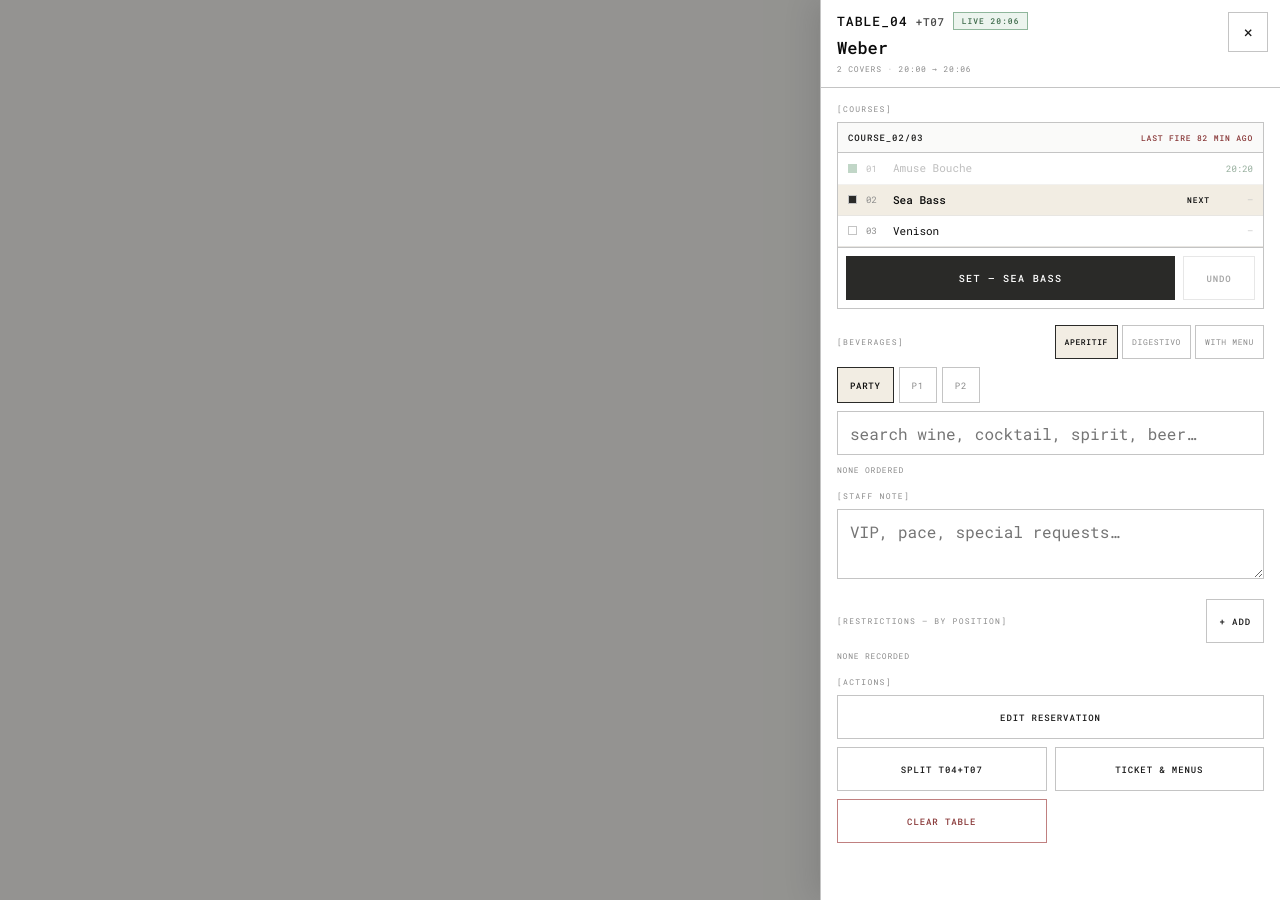
Test: reports a refused split instead of claiming it succeeded
Click the button "SPLIT T04+T07" at [942, 769], box top-left (837, 747), bottom-right (1046, 791)
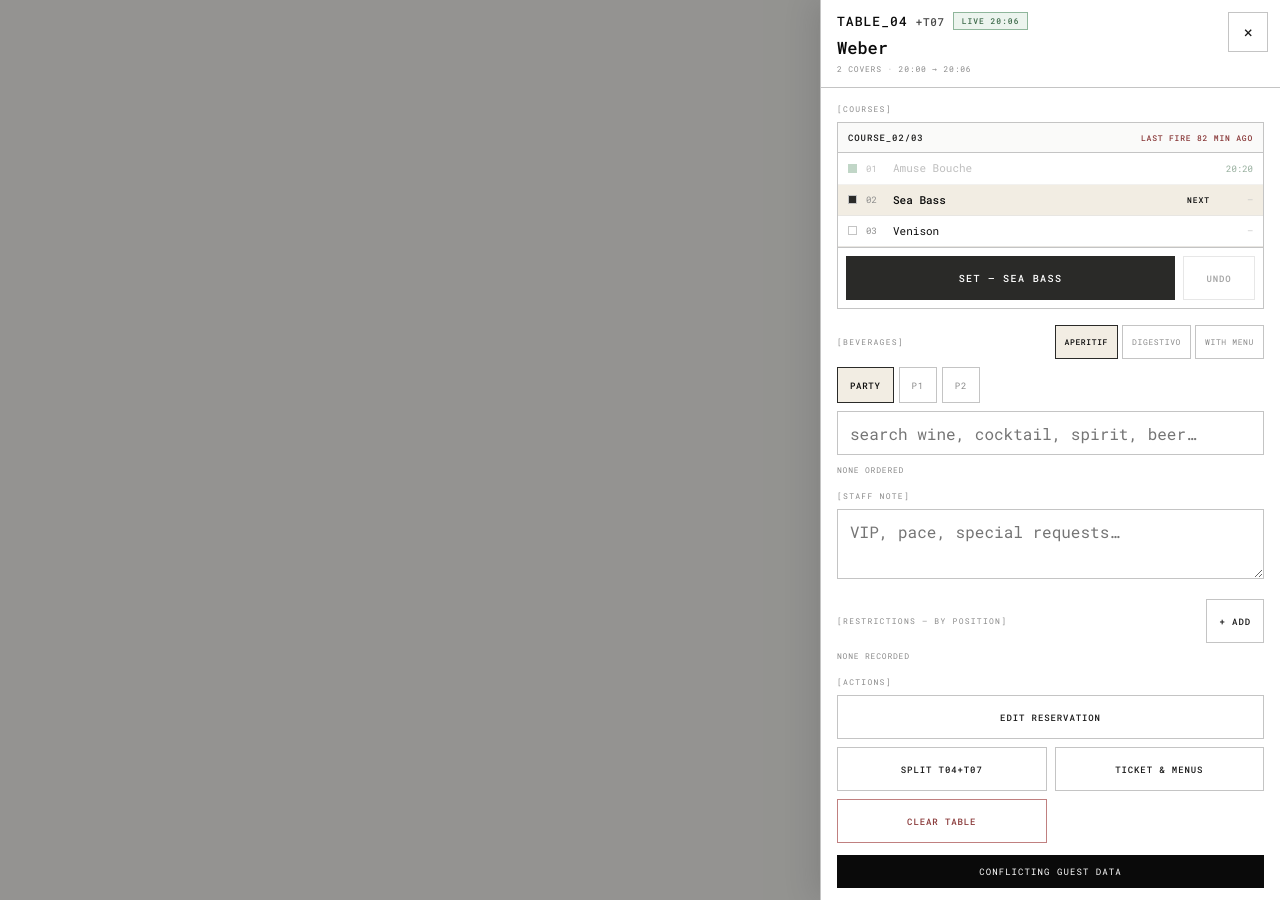
Expected: the text "Conflicting guest data" is shown, top-left (837, 855), bottom-right (1264, 888)
